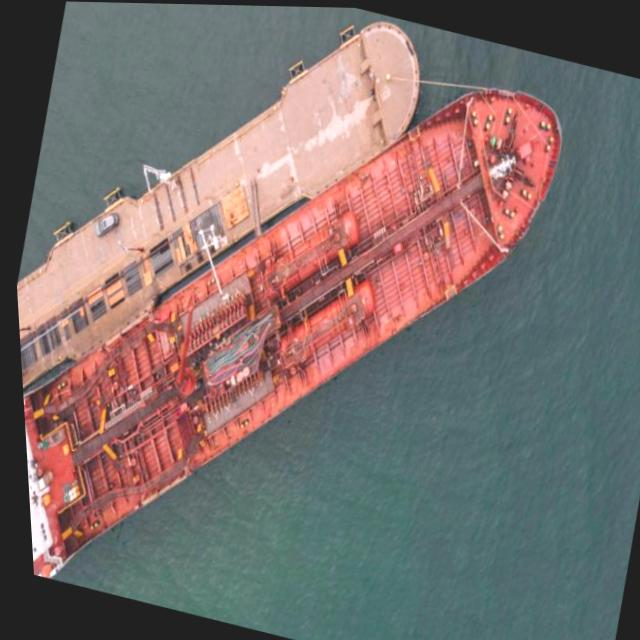ship2: (18, 83, 559, 577)
